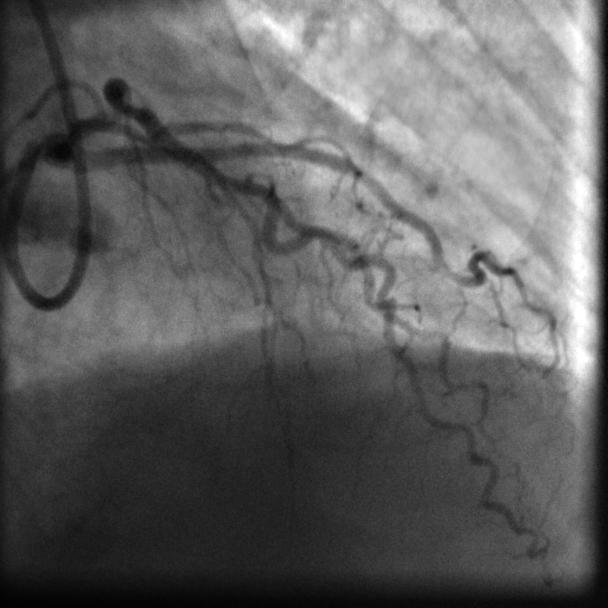Stenosis: (114, 75, 147, 129)
